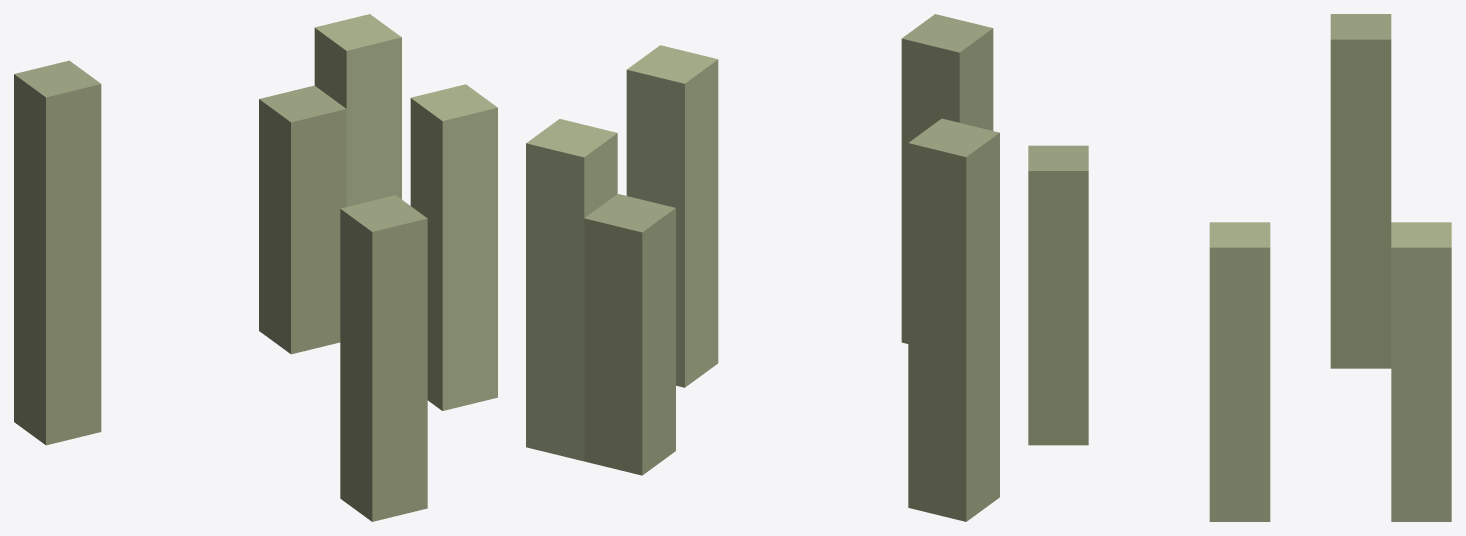
Rendered from tomillo_01.glb.
The picture shows the model from 3 angles, left to right: view 1: azimuth 30°, elevation 25°; view 2: azimuth 150°, elevation 25°; view 3: azimuth 270°, elevation 25°; orthographic projection. The views are drawn at different scales.
Visible parts, largest first — view 1: tomillo_01; view 2: tomillo_01; view 3: tomillo_01.
Boxes of the visible parts, left/top/right/bottom form: tomillo_01: left=14, top=14, right=497, bottom=521; tomillo_01: left=526, top=14, right=999, bottom=521; tomillo_01: left=1028, top=14, right=1451, bottom=521.
Bounding box in the file's own units: 0.7 × 0.6 × 0.7.
